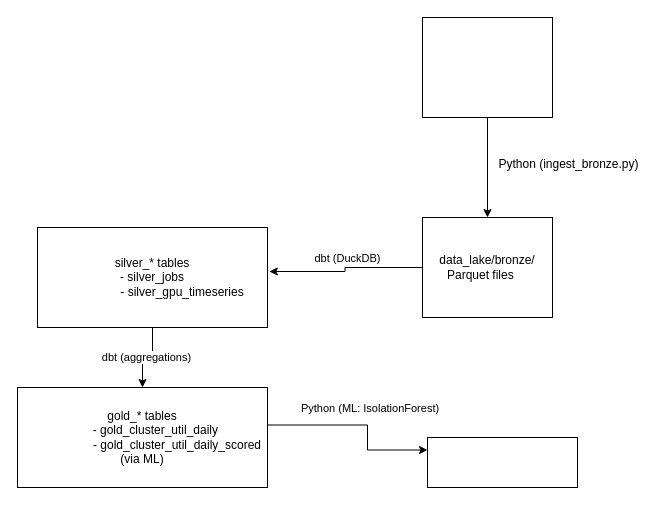
Image size: 655x505. Some labels were removed from this diagram. Each missing label, with the box of its shape:
Anomaly flags per day: (426, 436, 578, 488)
data_raw/ CSV (Alibaba trace + metrics): (422, 16, 552, 118)
